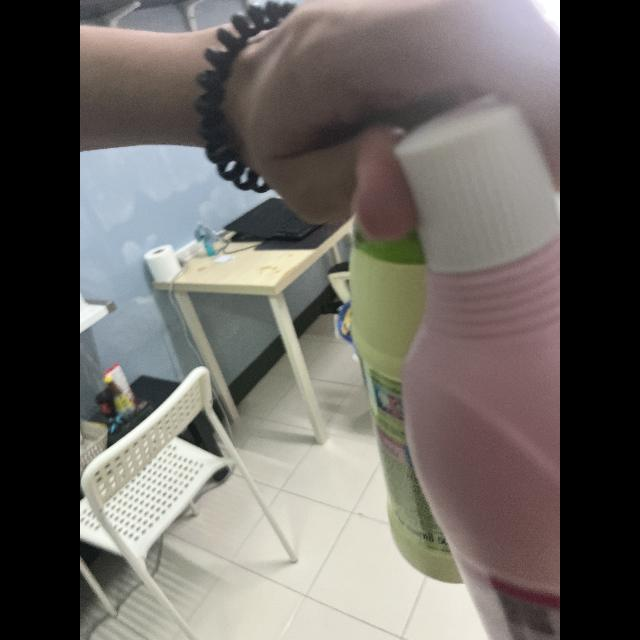chemical_plastic_bottle: (406, 106, 560, 640), (350, 138, 450, 586)
